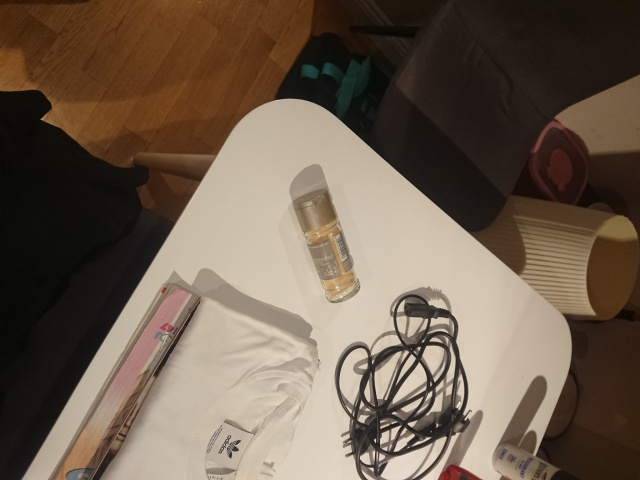Kotanyi Garlic Granules 70g: (290, 186, 362, 305)
